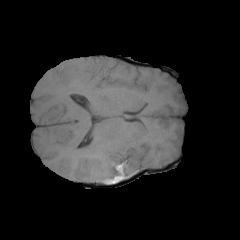glioma: (83, 145, 146, 183)
